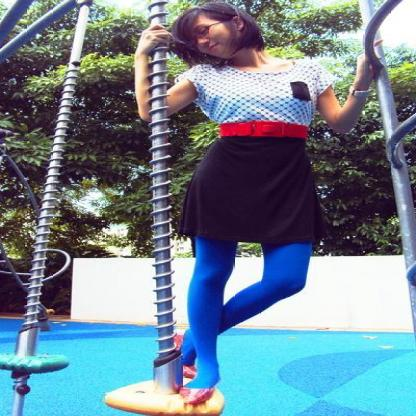dress: (162, 52, 336, 258)
shoe: (168, 364, 208, 402)
